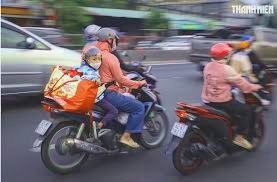Bien-so: (31, 125, 52, 143), (170, 122, 190, 140)
